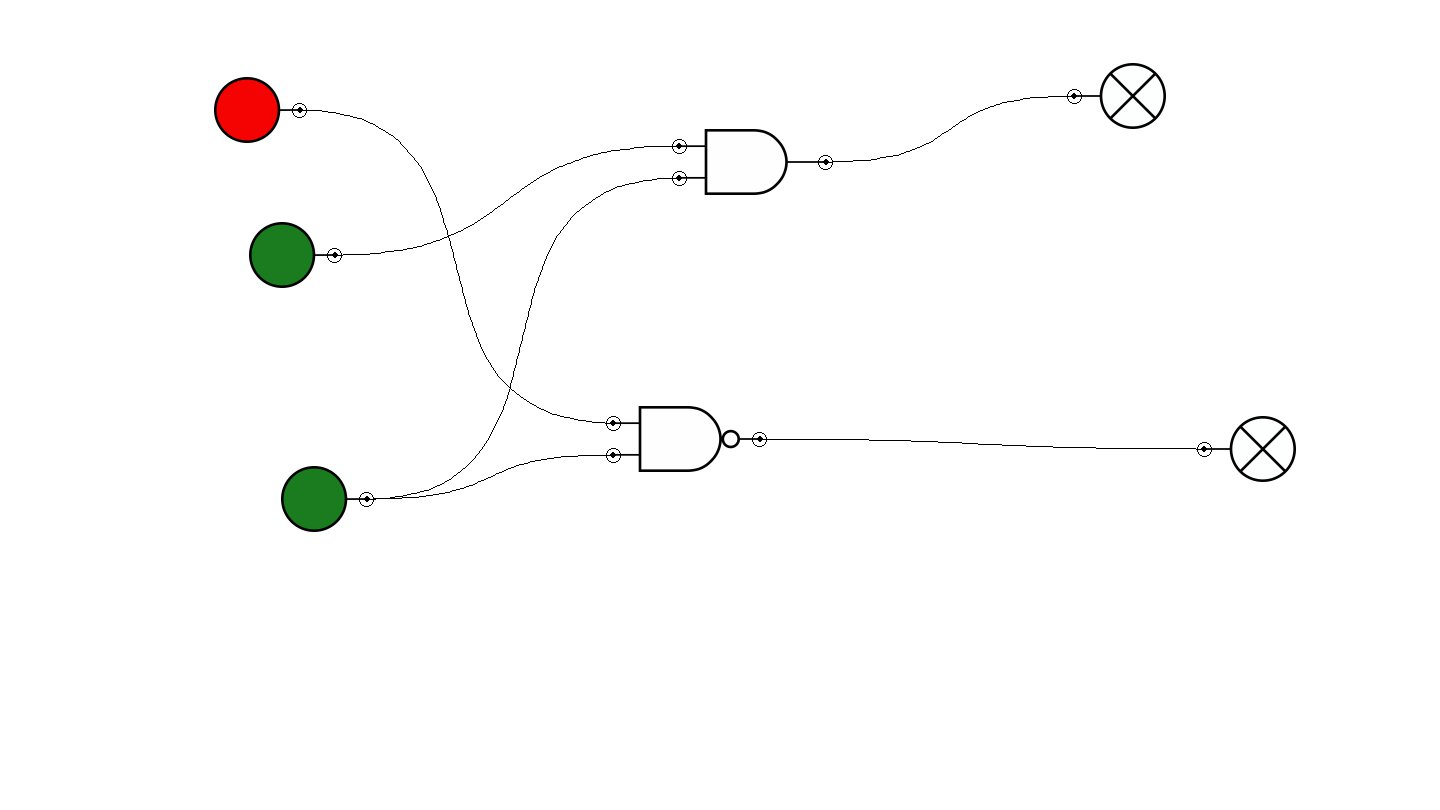and: (672, 129, 833, 195)
bulb: (1197, 416, 1296, 482), (1067, 63, 1166, 129)
nand: (606, 406, 767, 472)
switch_False: (214, 77, 307, 143)
switch_True: (281, 466, 374, 532), (249, 222, 342, 288)
